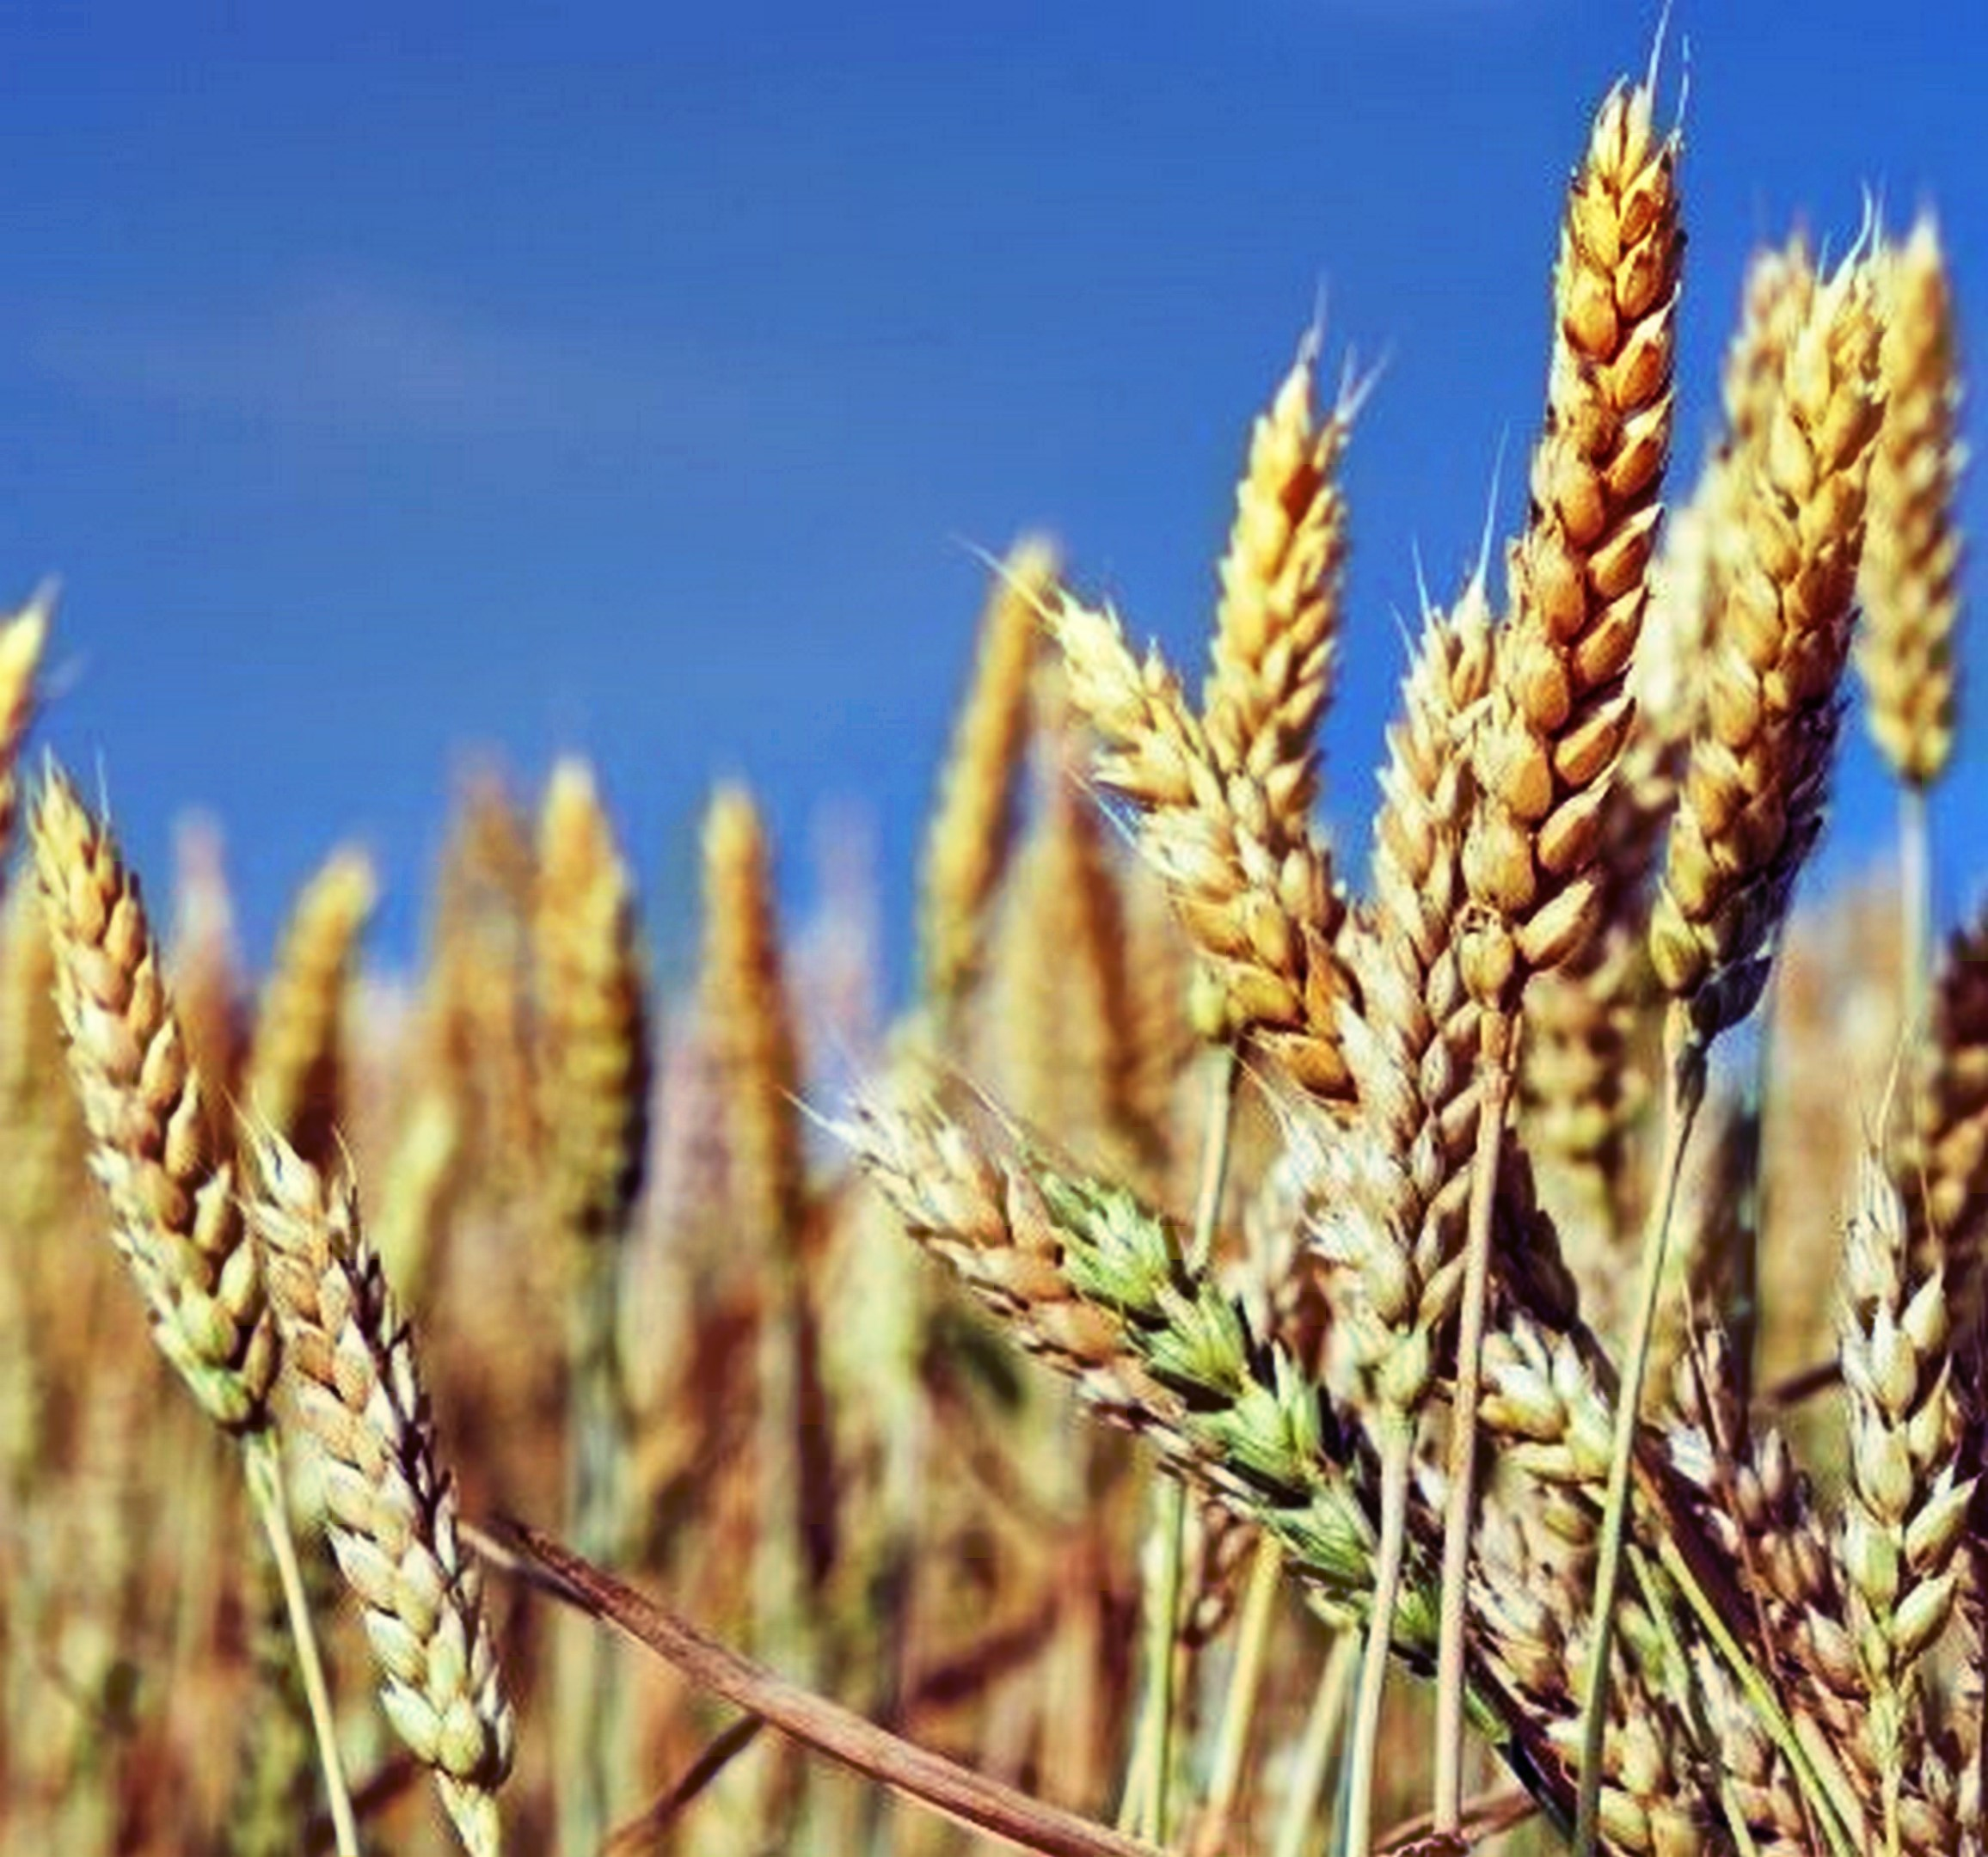Healthy Wheat: (44, 766, 531, 1794), (1426, 93, 1726, 1040)
